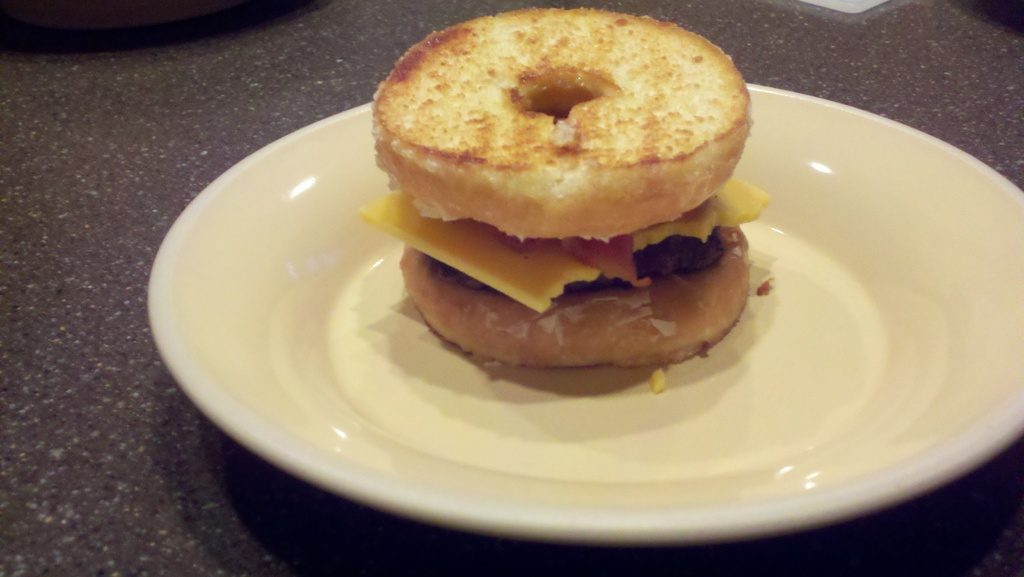Hamburger: (356, 9, 775, 370)
